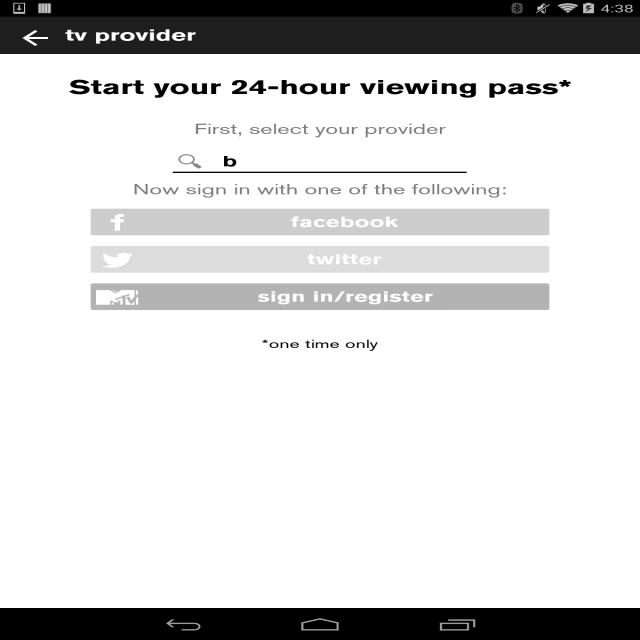Button: (91, 246, 549, 273), (91, 283, 549, 310), (91, 209, 549, 235)
EditText: (168, 146, 471, 178)
ImageButton: (0, 19, 65, 57)
TextView: (11, 75, 629, 99), (11, 120, 629, 138), (11, 180, 629, 198), (11, 337, 629, 351), (65, 26, 196, 44)
